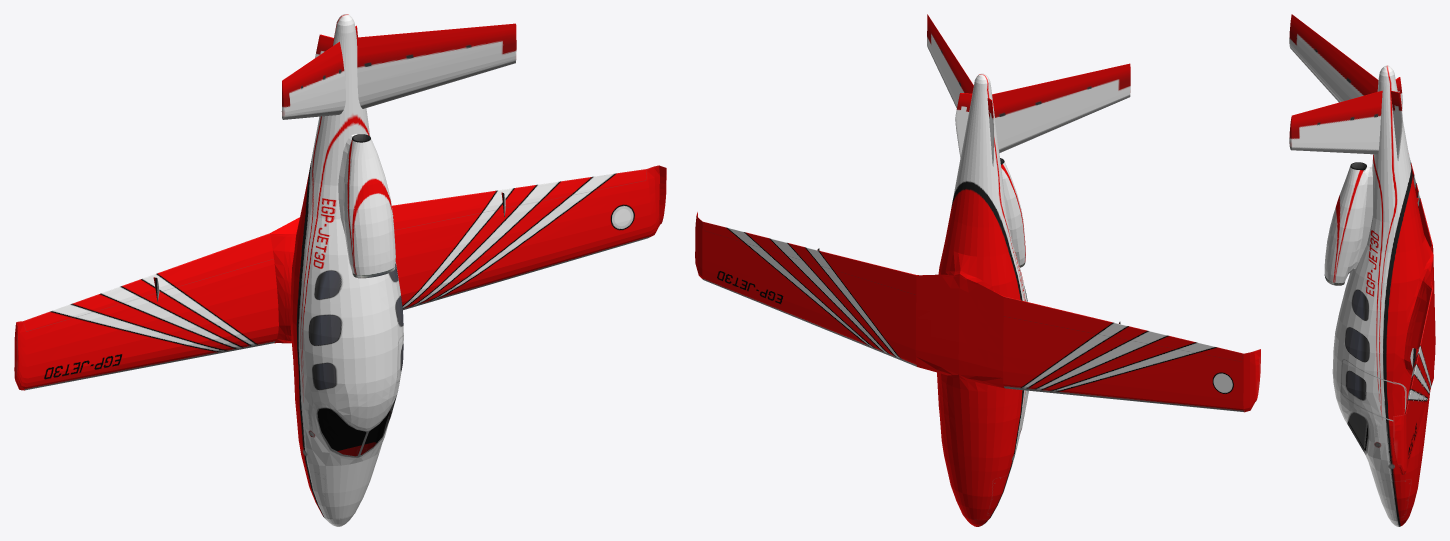
The model's file is VLJ19OBJ.obj.
3 renders of one model, left to right at view 1: azimuth 30°, elevation 25°; view 2: azimuth 150°, elevation 25°; view 3: azimuth 270°, elevation 25°, orthographic. The views are drawn at different scales.
Parts seen in each view (by area): view 1: VLJ_Plane, GLASS_Cube; view 2: VLJ_Plane; view 3: VLJ_Plane, GLASS_Cube.
Boxes of the visible parts, x1,y1,x2,y2 form: VLJ_Plane: (14,14,666,526); GLASS_Cube: (317,395,396,456); VLJ_Plane: (695,14,1260,526); VLJ_Plane: (1289,14,1435,526); GLASS_Cube: (1347,413,1367,452).
Bounding box in the file's own units: 5.28 × 4.03 × 1.16.
2 materials, 2 textured.
